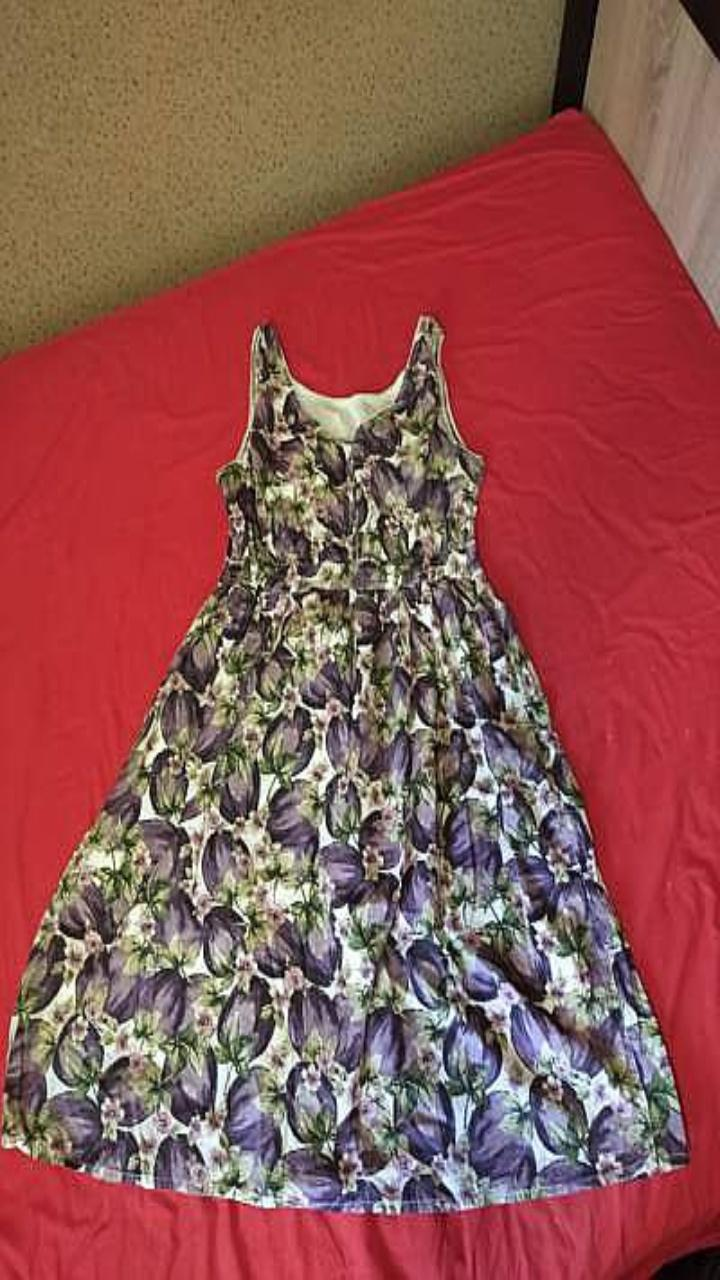Dresses: (2, 315, 688, 1212)
